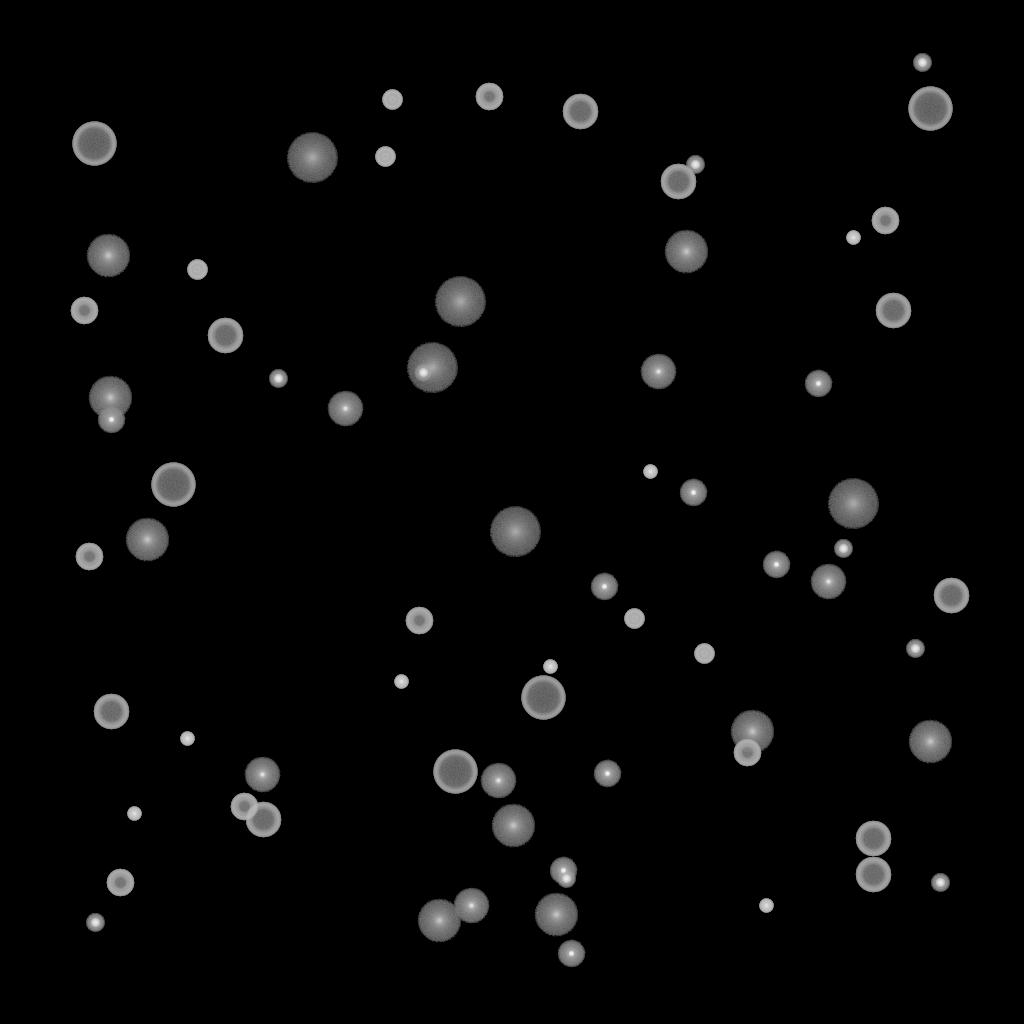depth:-10: (679, 479, 707, 507), (593, 760, 621, 788), (590, 573, 618, 601), (762, 551, 790, 579), (557, 940, 585, 968), (97, 406, 125, 434), (804, 370, 832, 398), (549, 857, 577, 885)
depth:-20: (834, 540, 852, 558), (86, 914, 104, 932), (557, 870, 575, 888), (913, 54, 931, 72), (686, 156, 704, 174), (414, 364, 432, 382), (269, 370, 287, 388), (931, 874, 949, 892), (906, 640, 924, 658)
depth:-30: (180, 732, 194, 746), (394, 675, 408, 689), (643, 465, 657, 479), (759, 899, 773, 913), (543, 660, 557, 674), (127, 807, 141, 821), (846, 231, 860, 245)
depth:-40: (624, 609, 644, 629), (187, 260, 207, 280), (694, 644, 714, 664), (382, 90, 402, 110), (375, 147, 395, 167)
depth:-50: (733, 739, 761, 767), (230, 793, 258, 821), (405, 607, 433, 635), (475, 83, 503, 111), (75, 543, 103, 571), (70, 297, 98, 325), (871, 207, 899, 235), (106, 869, 134, 897)
depth:-60: (660, 164, 696, 200), (933, 578, 969, 614), (562, 94, 598, 130), (875, 293, 911, 329), (93, 694, 129, 730), (855, 857, 891, 893), (207, 318, 243, 354), (245, 802, 281, 838), (855, 821, 891, 857)
depth:-70: (72, 122, 116, 166), (521, 676, 565, 720), (151, 463, 195, 507), (433, 750, 477, 794), (908, 87, 952, 131)
depth:0: (810, 564, 846, 600), (327, 391, 363, 427), (244, 757, 280, 793), (480, 763, 516, 799), (640, 354, 676, 390), (453, 888, 489, 924)
depth:10: (730, 710, 774, 754), (534, 893, 578, 937), (86, 234, 130, 278), (908, 720, 952, 764), (125, 518, 169, 562), (88, 376, 132, 420), (417, 899, 461, 943), (491, 804, 535, 848), (664, 230, 708, 274)
depth:20: (406, 343, 458, 393), (286, 133, 338, 183), (434, 277, 486, 327), (489, 507, 541, 557), (827, 479, 879, 529)
